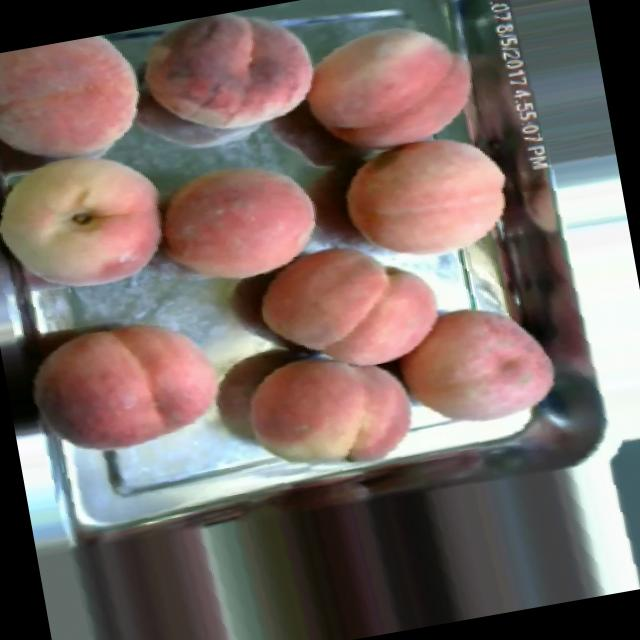Fruit: (14, 297, 236, 473), (116, 0, 339, 166), (238, 219, 457, 386), (134, 130, 340, 306), (0, 134, 196, 317), (225, 324, 430, 486), (380, 282, 578, 449), (280, 4, 487, 162), (325, 123, 527, 280), (0, 25, 169, 176)
